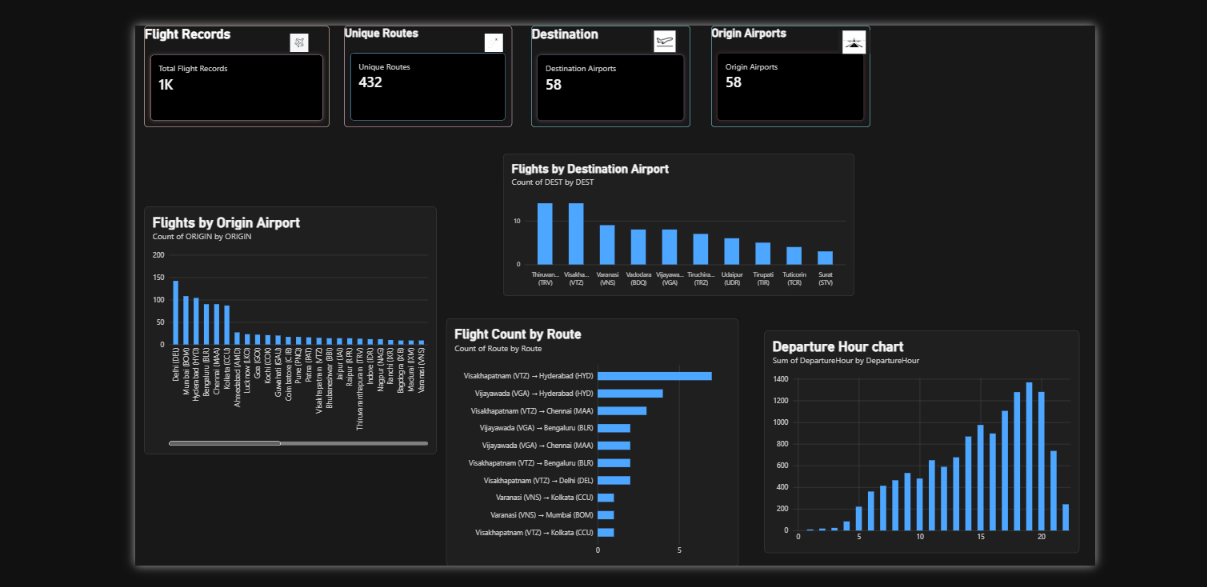

The page's visual inventory and layout, read from the dashboard file:
{"tool":"powerbi","page":{"name":"Executive Overview","canvas":[1920,1080],"ordinal":0},"visuals":[{"type":"clusteredBarChart","title":"Flight Count by Route","fields":{"Category":["indigo_database flight_data.Route"],"Y":["CountNonNull(indigo_database flight_data.Route)"]},"box":[622.5,585,585,495],"z":2000},{"type":"clusteredColumnChart","title":"Flights by Origin Airport","fields":{"Category":["indigo_database flight_data.ORIGIN"],"Y":["CountNonNull(indigo_database flight_data.ORIGIN)"]},"box":[17.5,362.5,585,495],"z":3000},{"type":"cardVisual","title":"Flight Records","fields":{"Data":["indigo_database flight_data.Total Flight Records"]},"box":[18,0,370,202.9],"z":4002},{"type":"cardVisual","title":"Unique Routes","fields":{"Data":["indigo_database flight_data.Unique Routes"]},"box":[417.5,0,335.7,202.9],"z":4003},{"type":"cardVisual","title":"Destination","fields":{"Data":["indigo_database flight_data.Destination Airports"]},"box":[792.5,0,318.6,202.9],"z":4004},{"type":"cardVisual","title":"Origin Airports","fields":{"Data":["indigo_database flight_data.Origin Airports"]},"box":[1152.5,0,318.6,202.9],"z":4005},{"type":"image","box":[310,16,36.2,36.9],"z":4006},{"type":"image","box":[697.5,15,38.8,36.9],"z":4007},{"type":"image","box":[1032.5,10,54.3,42.9],"z":4008},{"type":"image","box":[1405,10,64,46],"z":4009},{"type":"clusteredColumnChart","title":"Flights by Destination Airport","fields":{"Category":["indigo_database flight_data.DEST"],"Y":["CountNonNull(indigo_database flight_data.DEST)"]},"box":[735,255,702.5,285],"z":4010},{"type":"clusteredColumnChart","title":"Departure Hour chart","fields":{"Category":["indigo_database flight_data.DepartureHour"],"Y":["Sum(indigo_database flight_data.DepartureHour)"]},"box":[1257.5,610,630,445],"z":4011}]}

Visuals, with their boxes on the page's 1920x1080 design canvas (x1, y1, x2, y2). These are canvas units, not pixel positions in the 1207x587 screenshot, which may show the page scaled, cropped or inside an application window:
"Flight Count by Route" clusteredBarChart: [x1=622, y1=585, x2=1208, y2=1080]
"Flights by Origin Airport" clusteredColumnChart: [x1=18, y1=362, x2=602, y2=858]
"Flight Records" cardVisual: [x1=18, y1=0, x2=388, y2=203]
"Unique Routes" cardVisual: [x1=418, y1=0, x2=753, y2=203]
"Destination" cardVisual: [x1=792, y1=0, x2=1111, y2=203]
"Origin Airports" cardVisual: [x1=1152, y1=0, x2=1471, y2=203]
image: [x1=310, y1=16, x2=346, y2=53]
image: [x1=698, y1=15, x2=736, y2=52]
image: [x1=1032, y1=10, x2=1087, y2=53]
image: [x1=1405, y1=10, x2=1469, y2=56]
"Flights by Destination Airport" clusteredColumnChart: [x1=735, y1=255, x2=1438, y2=540]
"Departure Hour chart" clusteredColumnChart: [x1=1258, y1=610, x2=1888, y2=1055]
